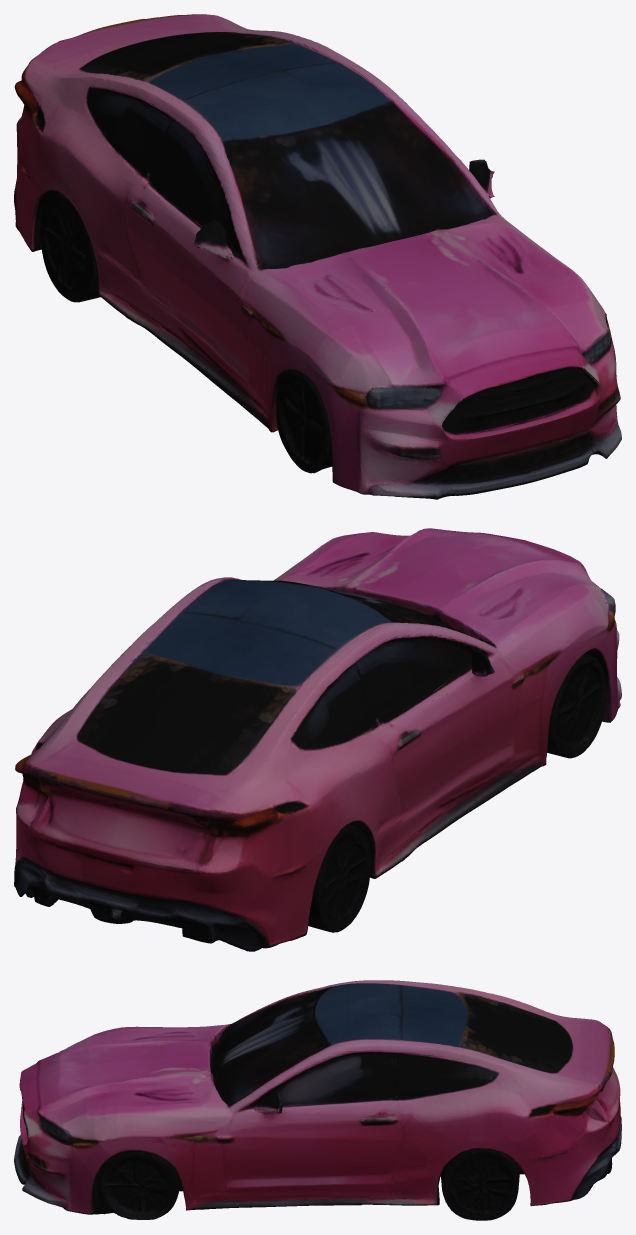
The model's file is pink_car.glb.
The picture shows the model from 3 angles, top to bottom: view 1: azimuth 30°, elevation 25°; view 2: azimuth 150°, elevation 25°; view 3: azimuth 270°, elevation 25°; orthographic projection. The views are drawn at different scales.
Visible parts, largest first — view 1: world; view 2: world; view 3: world.
Boxes of the visible parts, bbox=[...] form: world: bbox=[14, 14, 621, 499]; world: bbox=[14, 528, 621, 951]; world: bbox=[14, 980, 621, 1220].
Size of the model in its own units: 0.4113 by 0.3034 by 0.999.
Materials: 1 (1 with a texture image).
